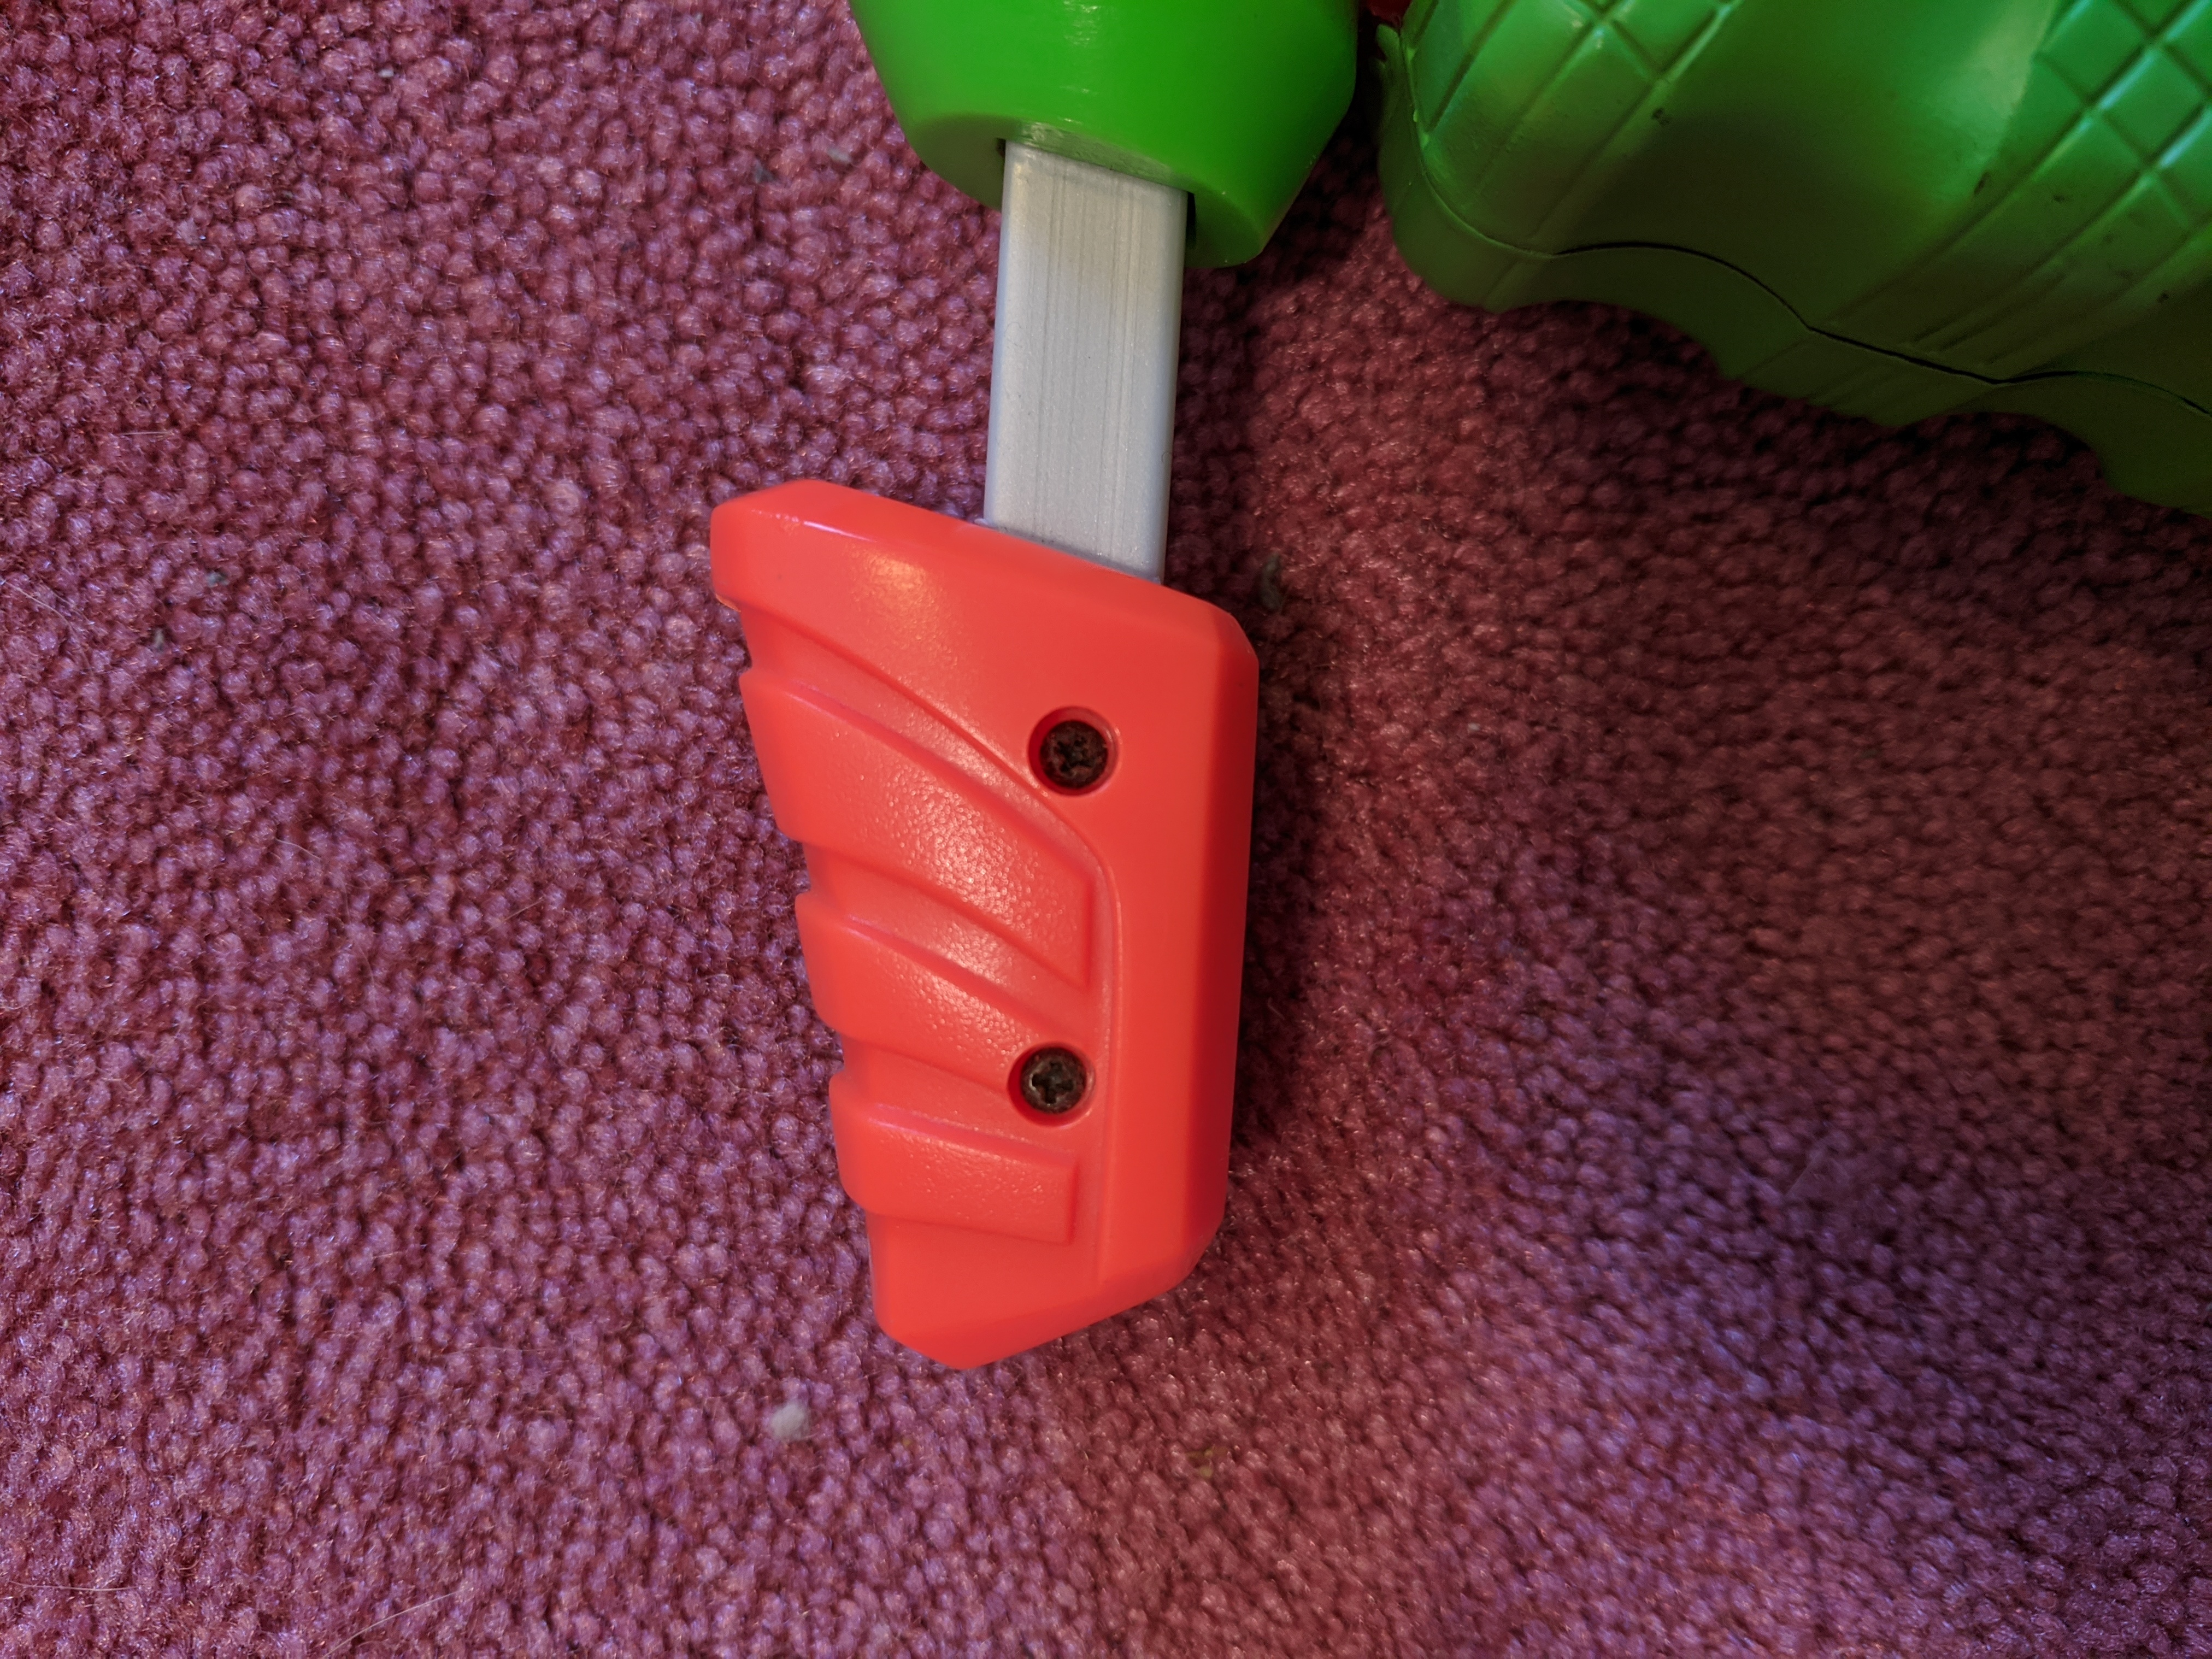cross_recessed_screw: (1001, 1030, 1099, 1127), (1033, 706, 1111, 795)
